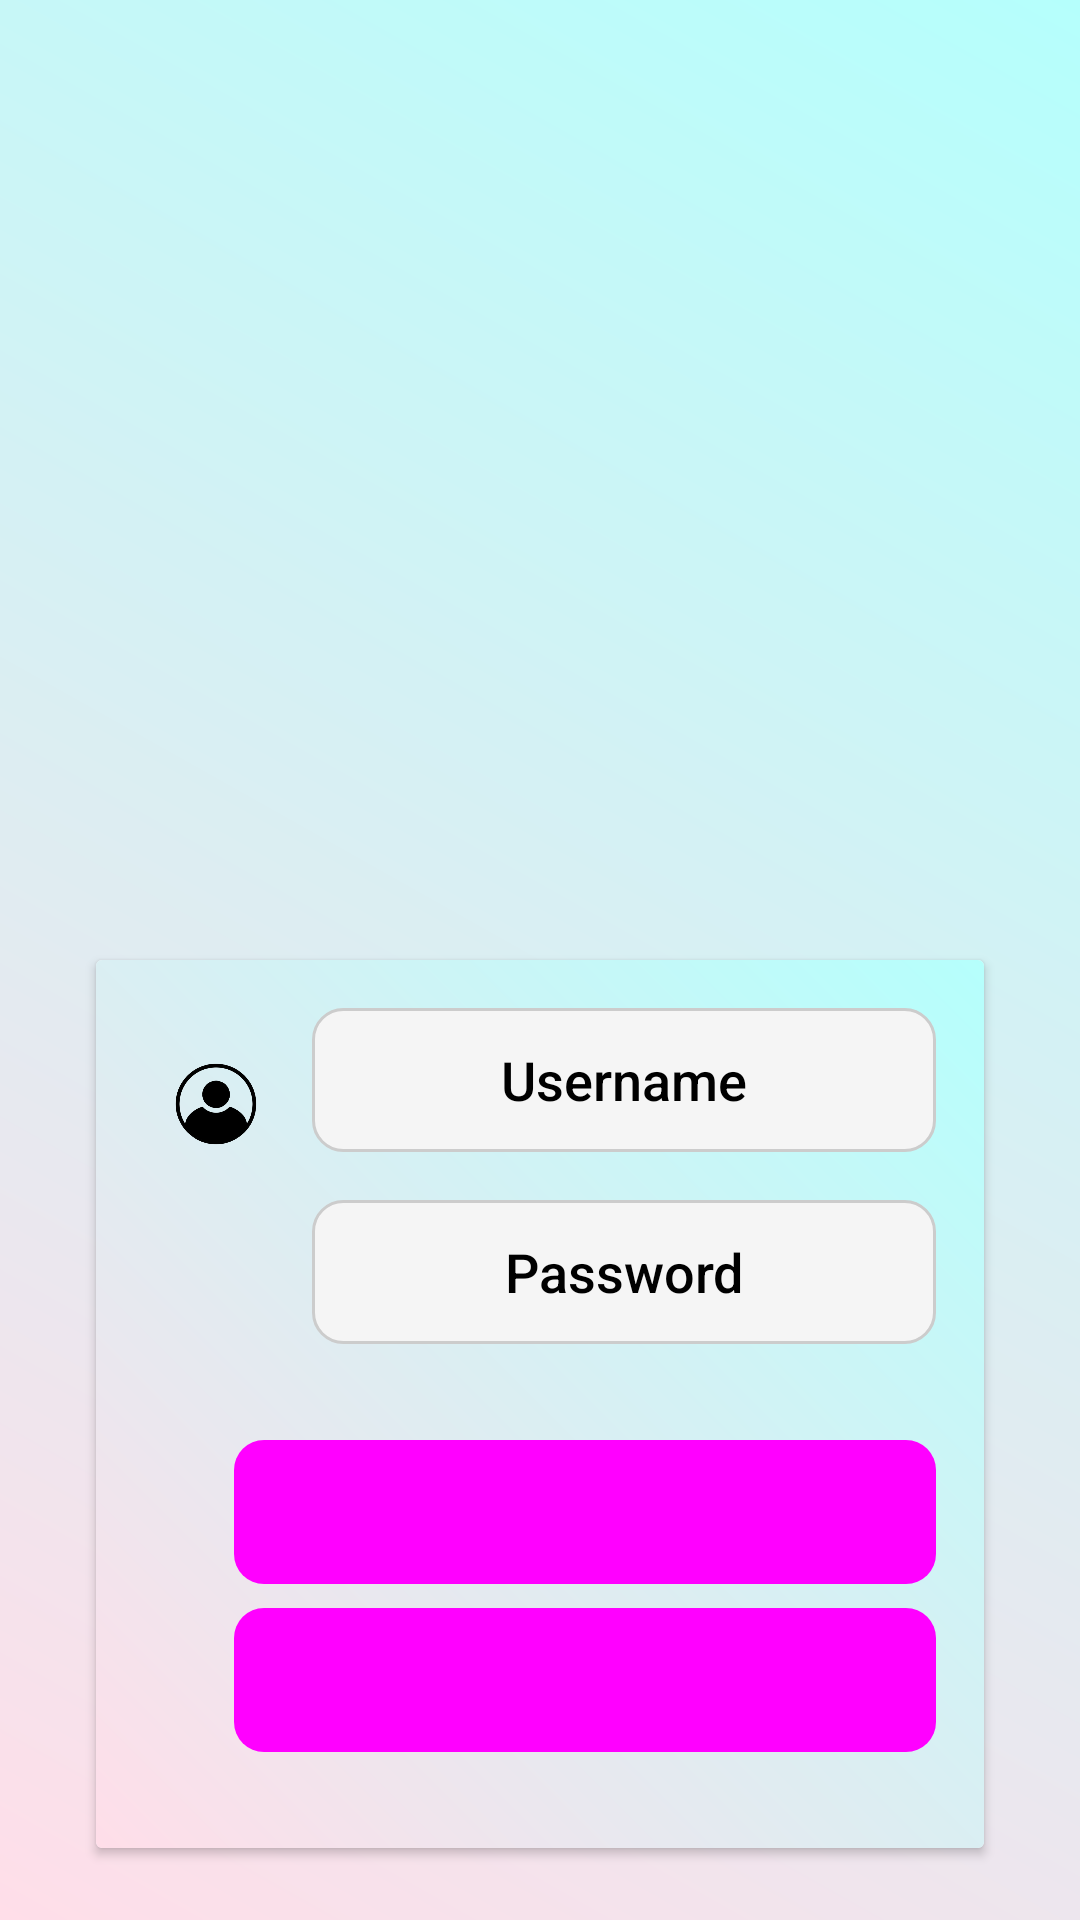

Locate icon controls on the screen. Image size 1080*1920, boxes as BBox(x1, y1, x2, y2).
Person Icon: BBox(176, 1064, 256, 1144)
